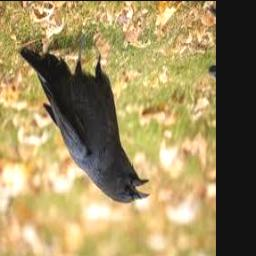Crow: (19, 33, 150, 204)
